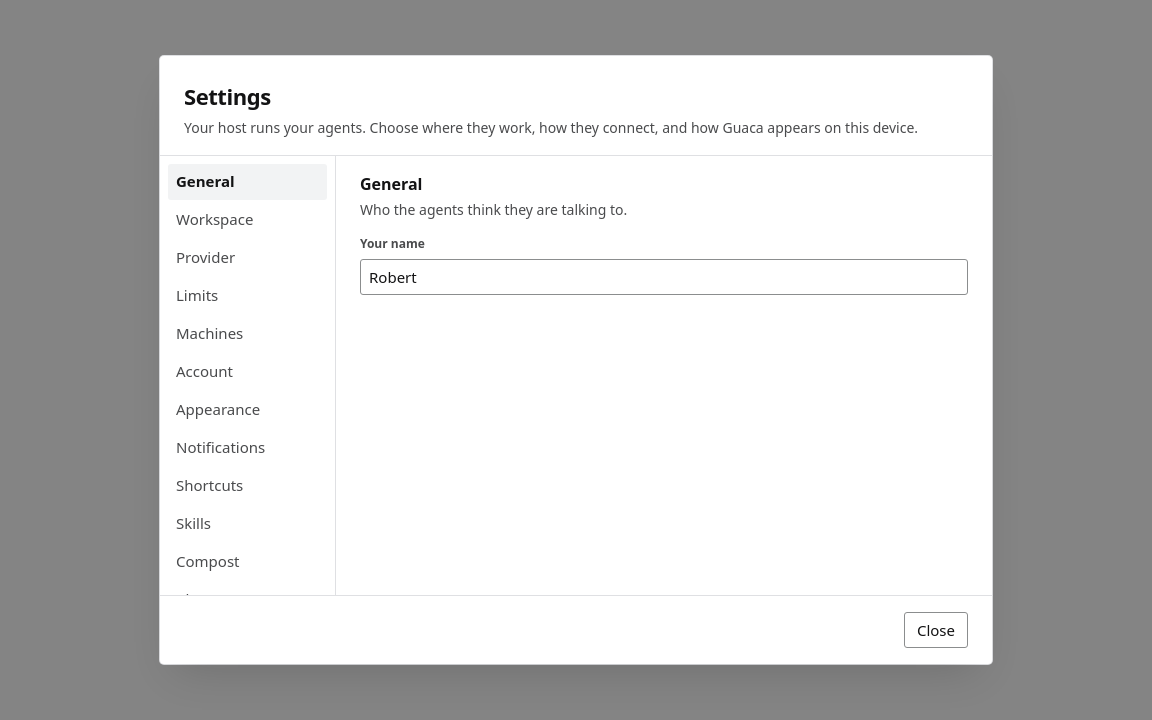
Test case: when the runtime refuses › says what went wrong and stays open, so nothing typed is lost
The width and height of the screenshot is (1152, 720).
Replace the text in the field labelled "Your name" with "Robert W" at (664, 277), box [360,259,968,295]
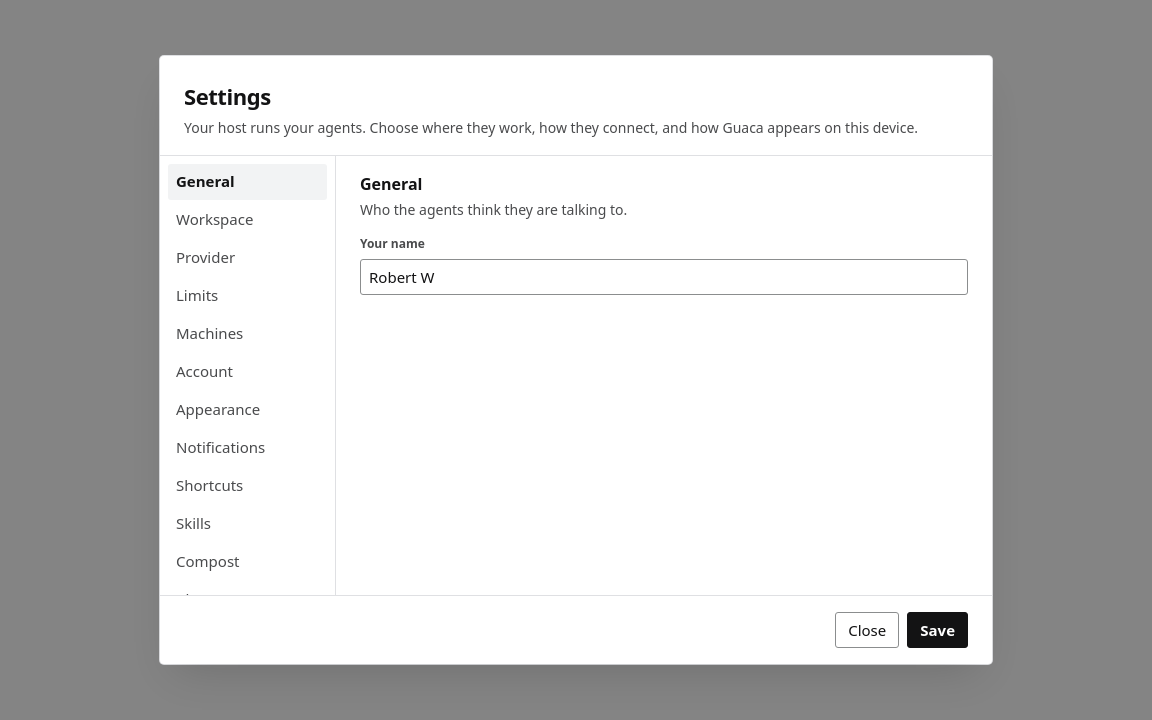
Click the button "Save" at (938, 630), box [907,612,968,648]
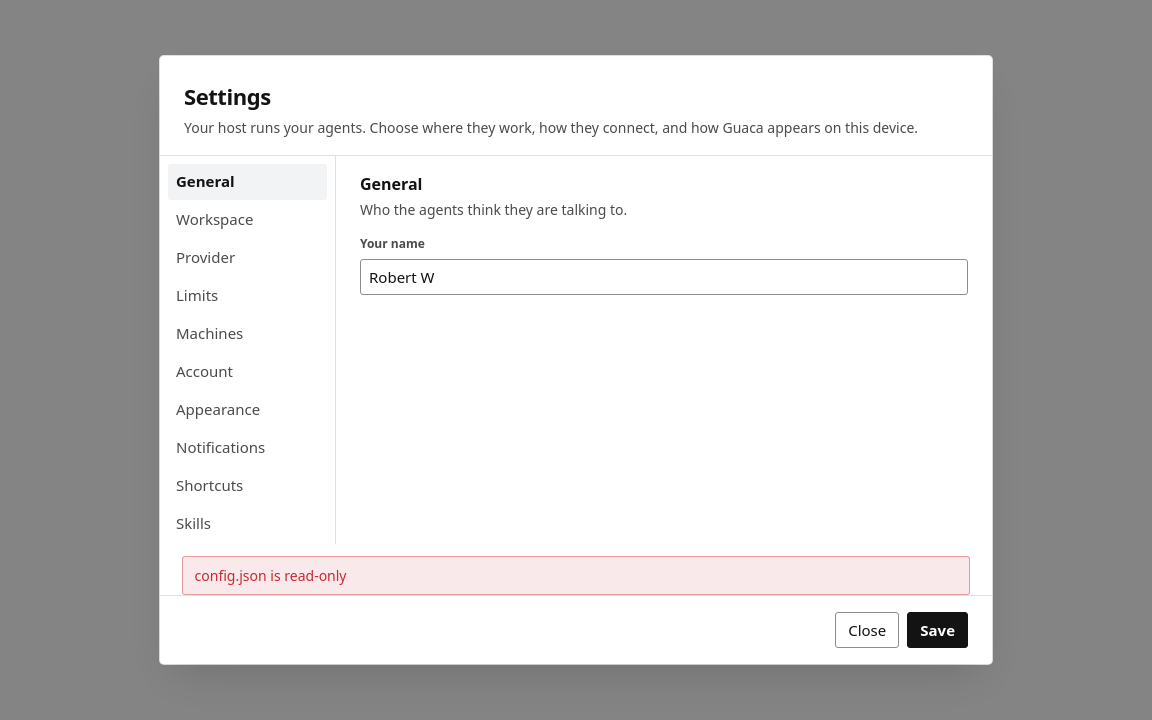
Expected: the button "Save" is enabled, [907,612,968,648]
Expected: the text "config.json is read-only" is shown, [195,565,346,586]
